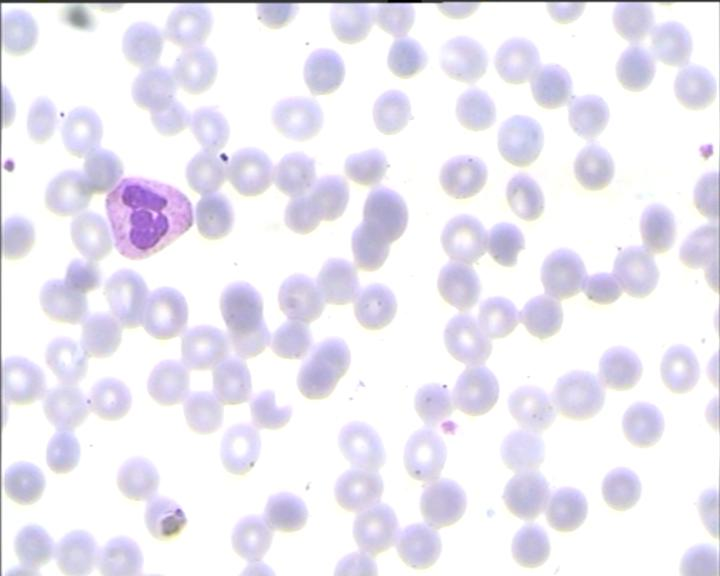neut: (103, 165, 197, 261)
